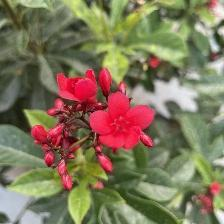jatropha: (87, 92, 158, 154)
